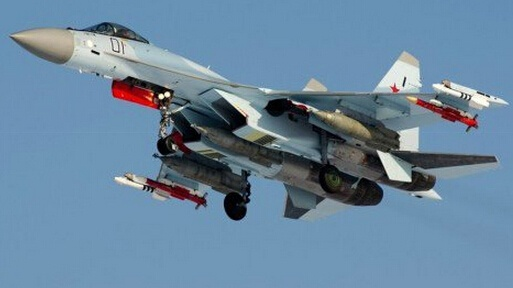airplane: (8, 23, 507, 217)
